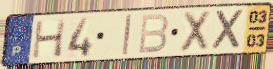4: (65, 15, 96, 59)
B: (136, 12, 170, 56)
H: (31, 18, 68, 60)
I: (121, 13, 134, 57)
X: (178, 8, 214, 54), (211, 8, 247, 53)
